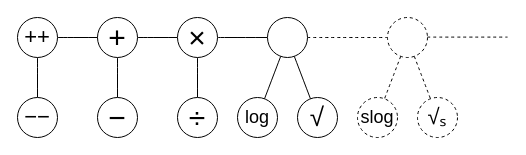
Image size: 526x155. Some labels were removed from this diagram. The shapes that lost their labels are listed below. From the top down, each one's box as (x1, y1, x2, y2) in pixels, then its label:
(266, 16, 308, 58): aᵇ
(386, 16, 428, 58): ᵇa
